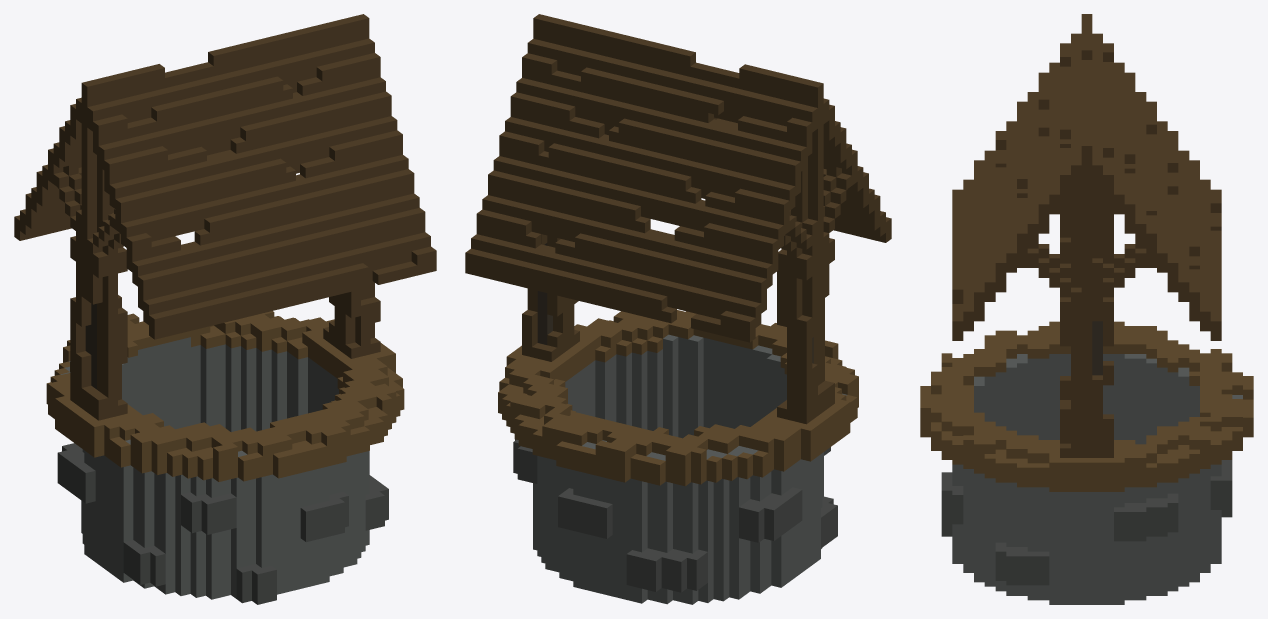
Rendered from Well.obj.
3 renders of one model, left to right at view 1: azimuth 30°, elevation 25°; view 2: azimuth 150°, elevation 25°; view 3: azimuth 270°, elevation 25°, orthographic. The views are drawn at different scales.
Parts seen in each view (by area): view 1: Well; view 2: Well; view 3: Well.
Part boxes in pixels (bbox=[...]): Well: bbox=[14, 14, 436, 604]; Well: bbox=[465, 14, 891, 604]; Well: bbox=[920, 14, 1253, 604].
Size of the model in its own units: 31 by 48 by 31.
Materials: 1 (1 with a texture image).
